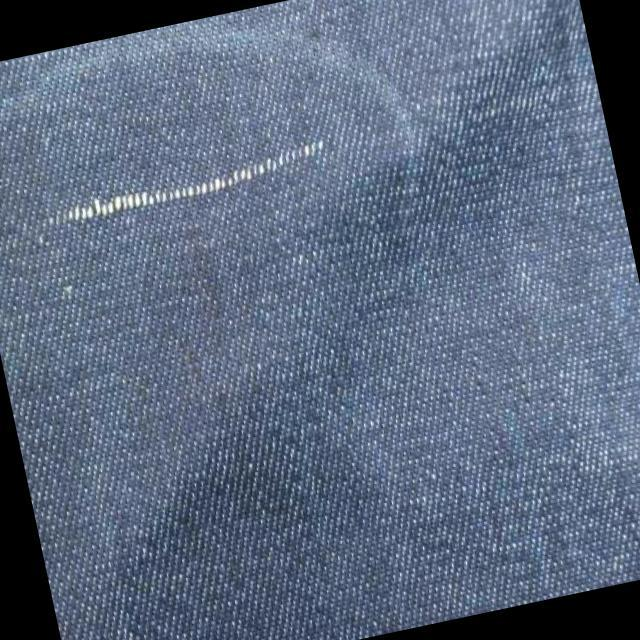Warp_Weft: (31, 133, 330, 236)
